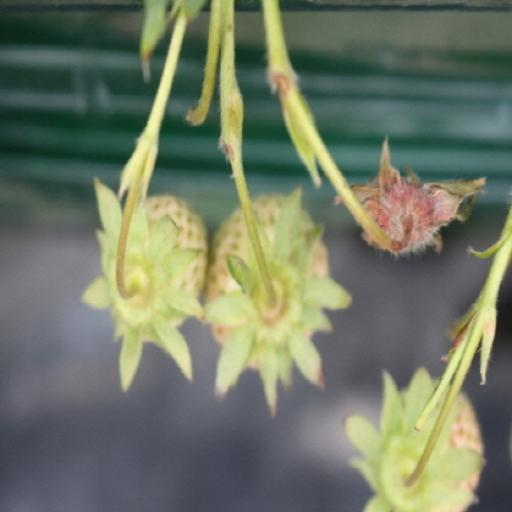Gray Mold: (332, 136, 489, 254)
